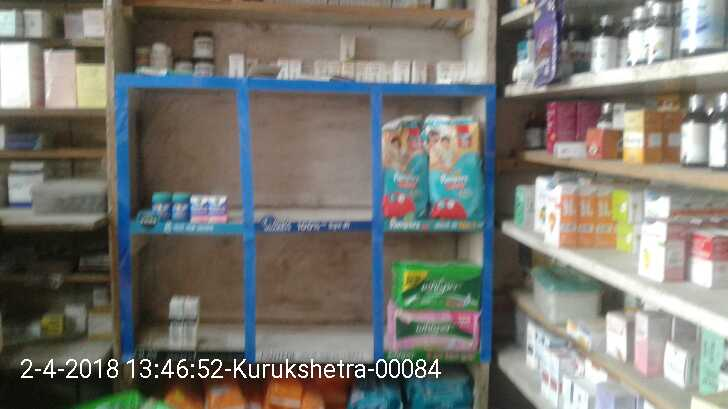vicks: (150, 193, 191, 224), (191, 193, 229, 224)
